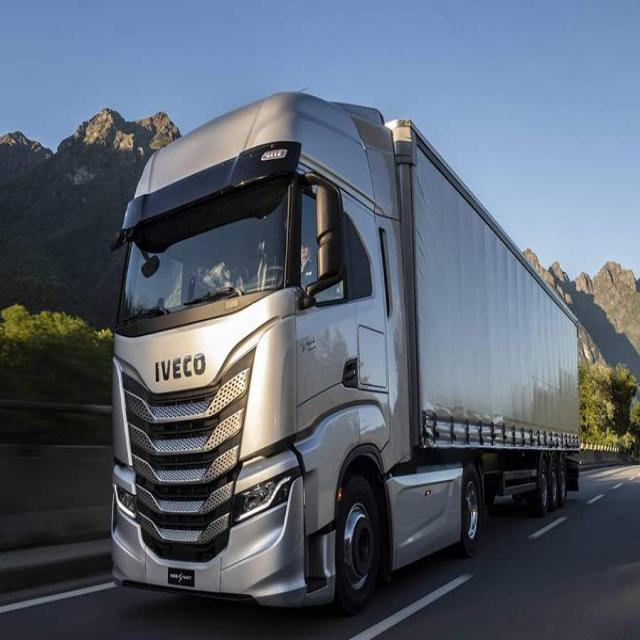TRUCK: (117, 94, 584, 609)
